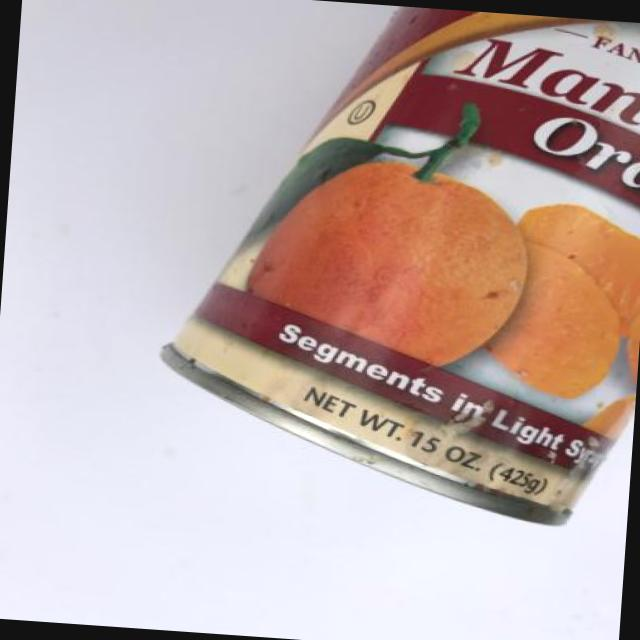metal: (162, 344, 571, 524)
